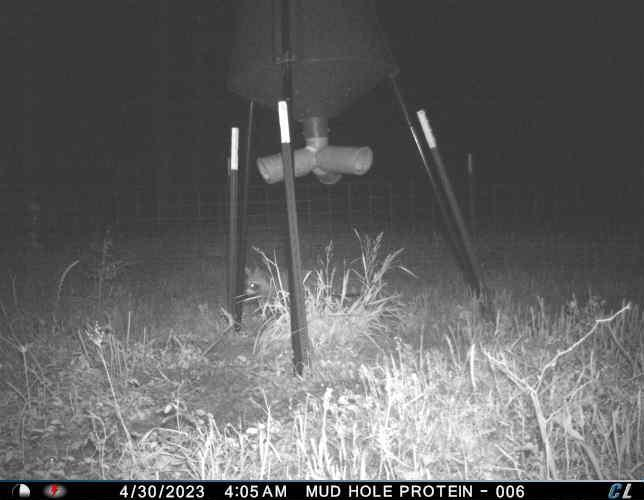Raccoon: (242, 262, 287, 312)
